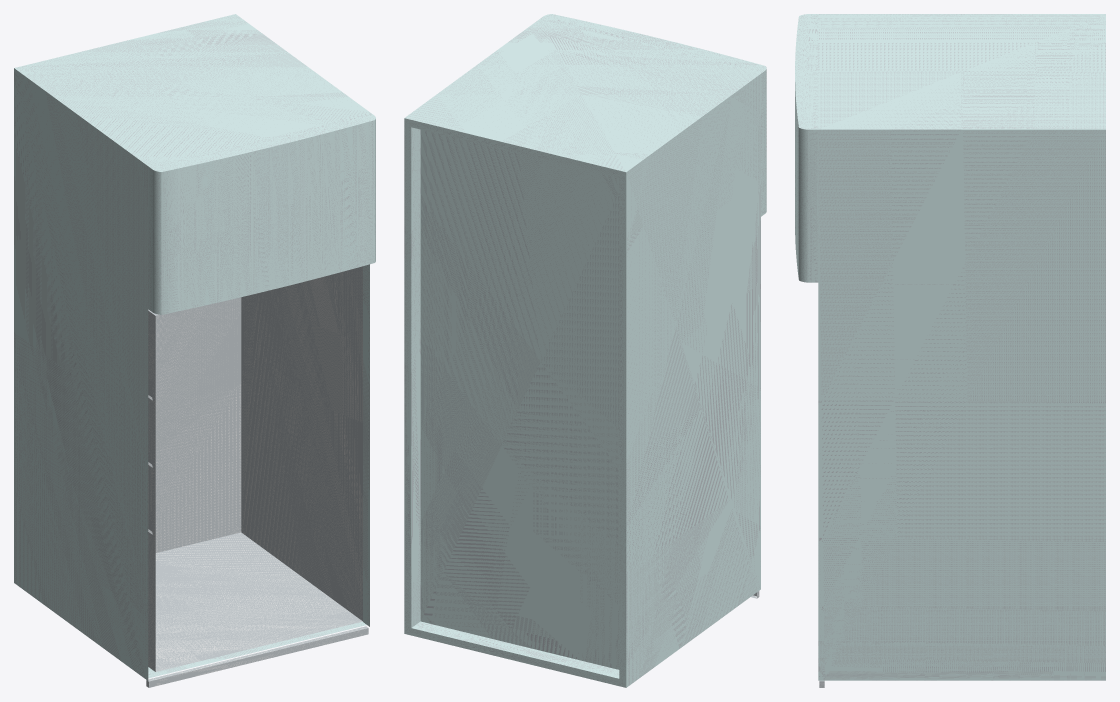
The model's file is frame.dae.
The picture shows the model from 3 angles, left to right: view 1: azimuth 30°, elevation 25°; view 2: azimuth 150°, elevation 25°; view 3: azimuth 270°, elevation 25°; orthographic projection. The views are drawn at different scales.
Parts seen in each view (by area): view 1: instance_2.019, instance_2.022, instance_31.002, instance_2.023, instance_2.024; view 2: instance_2.019, instance_2.025, instance_31.002; view 3: instance_2.019, instance_31.002.
Part boxes in pixels (x1=…): instance_2.019: x1=14, y1=14, x2=369, y2=680; instance_2.022: x1=148, y1=266, x2=362, y2=671; instance_31.002: x1=148, y1=112, x2=375, y2=314; instance_2.023: x1=148, y1=297, x2=241, y2=552; instance_2.024: x1=146, y1=626, x2=368, y2=687; instance_2.019: x1=404, y1=19, x2=760, y2=687; instance_2.025: x1=411, y1=127, x2=619, y2=678; instance_31.002: x1=539, y1=14, x2=766, y2=216; instance_2.019: x1=818, y1=14, x2=1105, y2=680; instance_31.002: x1=795, y1=14, x2=818, y2=282.
Size of the model in its own units: 0.6431 by 0.73 by 1.45.
